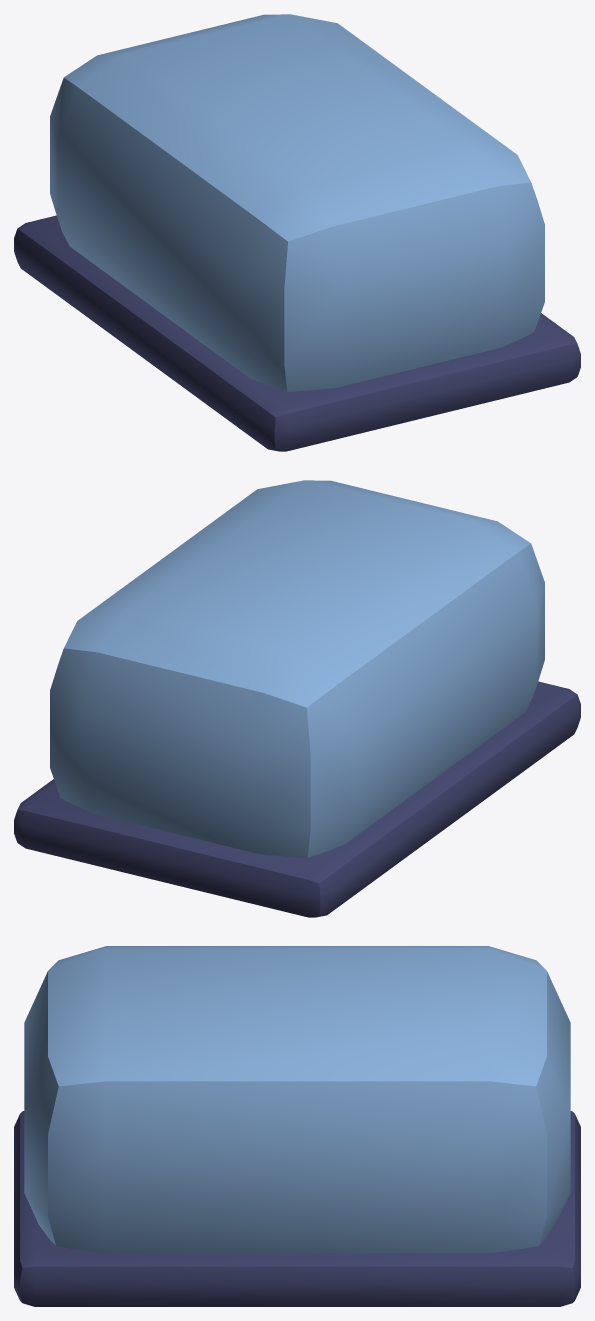
File: Planter_Foot.fbx
The picture shows the model from 3 angles, top to bottom: view 1: azimuth 30°, elevation 25°; view 2: azimuth 150°, elevation 25°; view 3: azimuth 270°, elevation 25°; orthographic projection. The views are drawn at different scales.
Parts seen in each view (by area): view 1: Planter_Foot; view 2: Planter_Foot; view 3: Planter_Foot.
Part boxes in pixels (left/top/right/bottom): Planter_Foot: left=14, top=14, right=580, bottom=451; Planter_Foot: left=14, top=480, right=580, bottom=917; Planter_Foot: left=14, top=946, right=580, bottom=1306.
Bounding box in the file's own units: 0.076 × 0.052 × 0.111.
